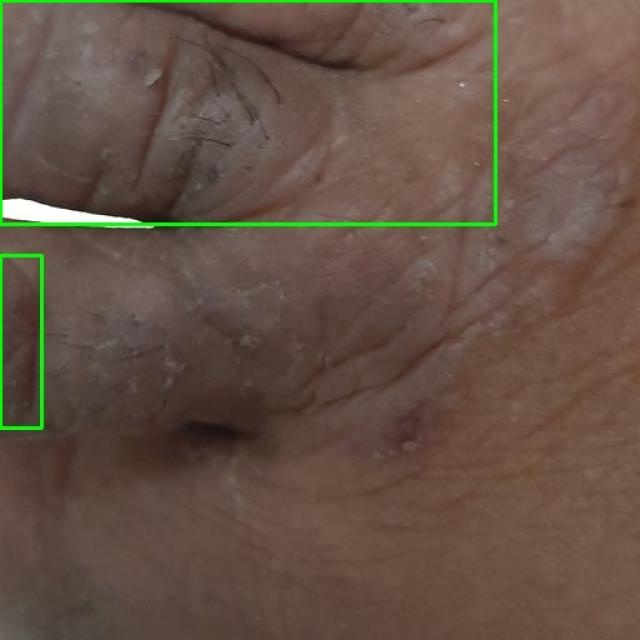Eczema: (0, 0, 495, 224), (0, 255, 41, 428)
